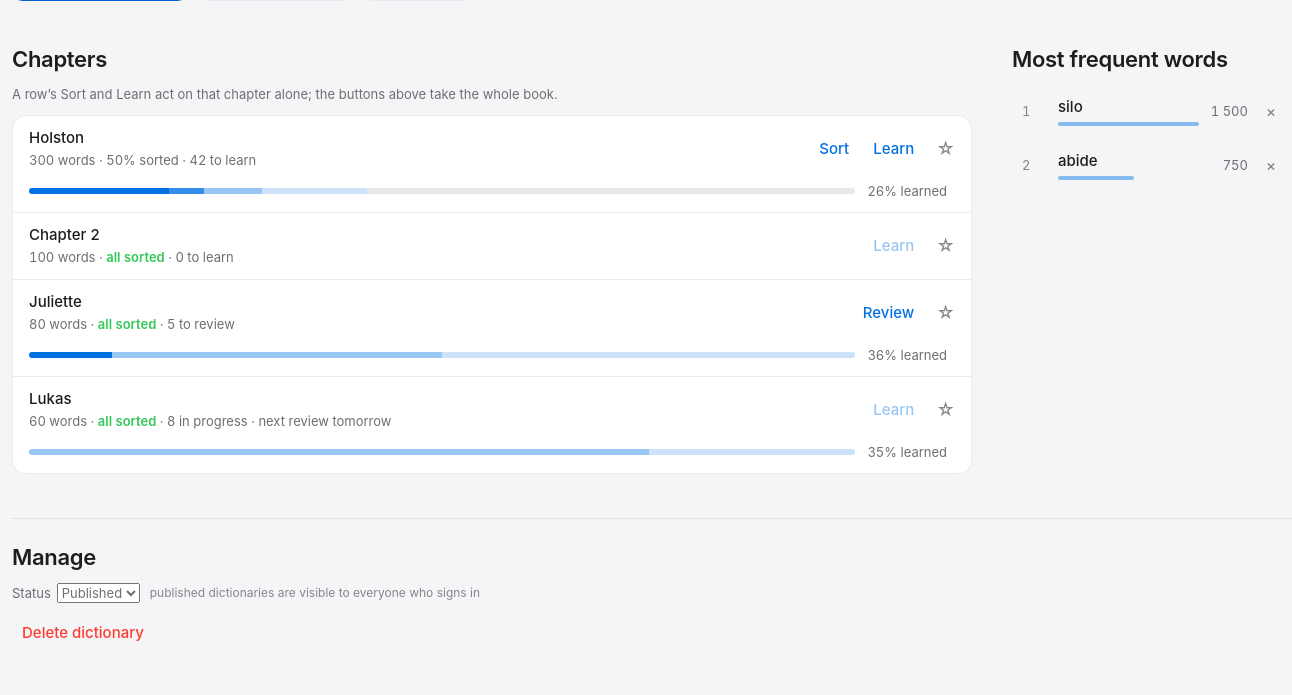
Test: DictionaryScreen — delete › un-arms and shows an error when the delete request fails
(page scrolled)
Click the button with class "delete-dictionary".
click(83, 633)  # box [12,615,154,651]
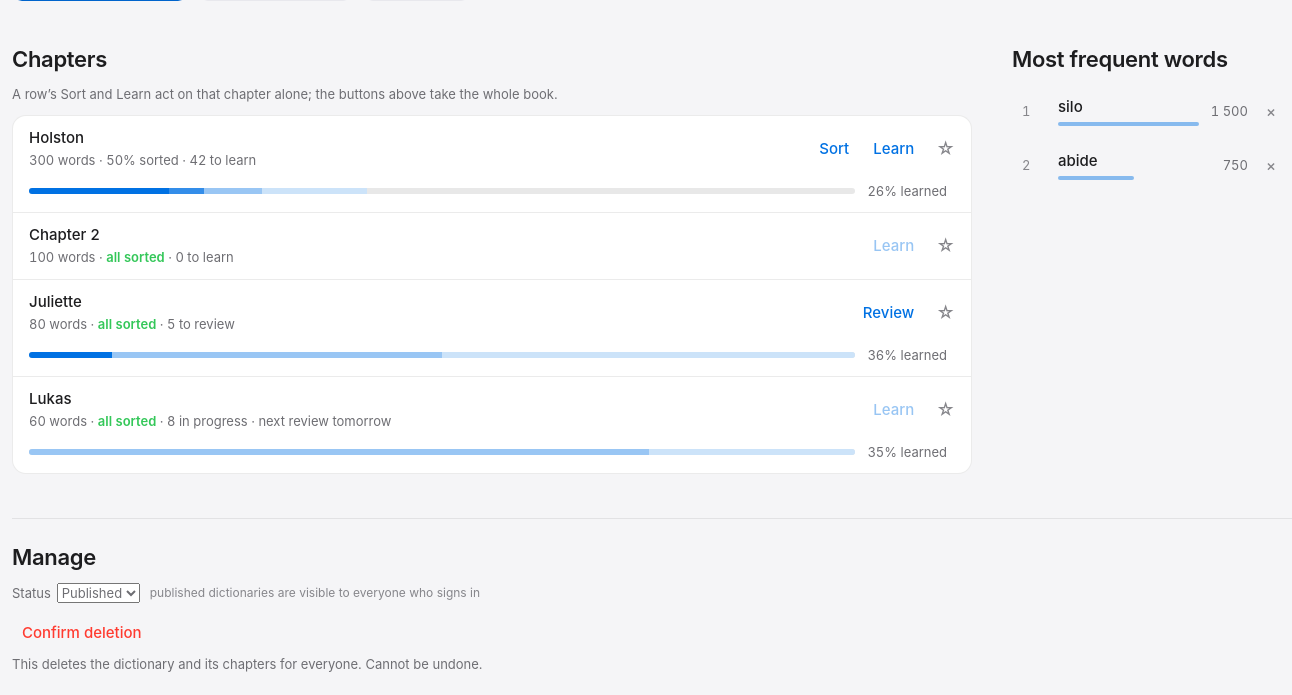
Click the button with class "delete-dictionary".
click(82, 633)  # box [12,615,152,651]
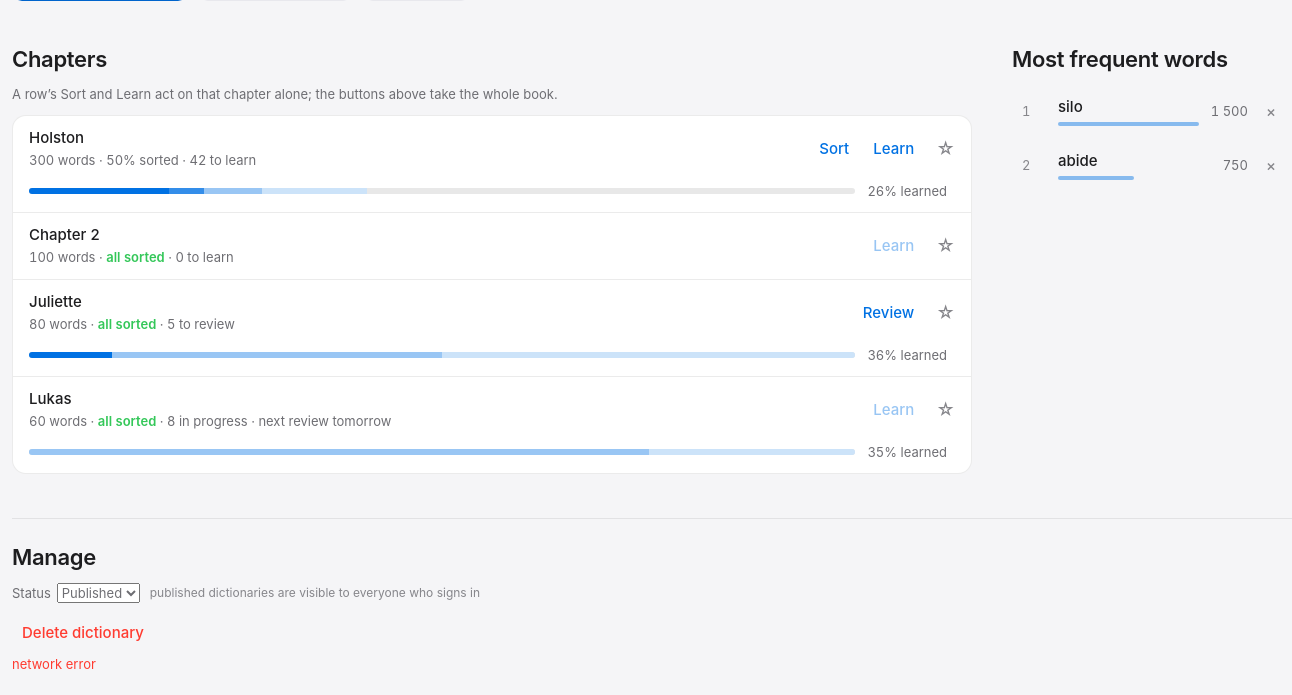
Check: the button with class "delete-dictionary" reads "Delete dictionary", box [12,615,154,651]
Check: the text "network error" is shown, box [12,655,96,673]
